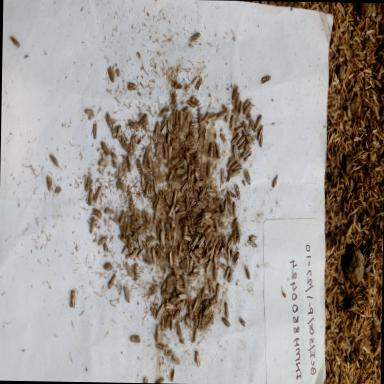pbw: (228, 83, 238, 106), (106, 64, 118, 83), (140, 207, 152, 226), (155, 300, 167, 318), (170, 350, 182, 368), (189, 29, 201, 46), (124, 261, 136, 278), (254, 113, 264, 133), (122, 285, 132, 305), (148, 282, 159, 300), (159, 310, 168, 332), (195, 234, 206, 252), (238, 147, 252, 161), (194, 214, 206, 230), (136, 112, 148, 128), (149, 193, 159, 212), (230, 132, 243, 146), (125, 78, 138, 92), (194, 74, 204, 92), (189, 234, 199, 252), (135, 156, 144, 176), (104, 112, 114, 130), (107, 272, 117, 290), (98, 154, 110, 169), (220, 244, 230, 262), (125, 153, 134, 173), (118, 161, 127, 181), (118, 133, 128, 151), (10, 34, 21, 50), (255, 124, 266, 140), (132, 260, 140, 282), (176, 320, 184, 342), (110, 124, 121, 140), (143, 176, 151, 198), (150, 306, 160, 323), (130, 332, 142, 346), (127, 119, 139, 133), (96, 234, 108, 248), (92, 207, 104, 221), (128, 134, 136, 155), (216, 107, 230, 119), (49, 153, 60, 168), (144, 170, 153, 188), (84, 174, 93, 192), (142, 238, 151, 256), (231, 225, 238, 248), (186, 172, 194, 192), (198, 284, 206, 304), (154, 322, 162, 342), (243, 100, 253, 116), (226, 164, 234, 184), (224, 156, 234, 172), (46, 174, 54, 194), (150, 210, 160, 226), (244, 166, 252, 186), (205, 256, 213, 276), (164, 310, 172, 330), (150, 244, 158, 264), (170, 186, 178, 206), (178, 238, 186, 258), (220, 315, 232, 328), (194, 148, 201, 170), (174, 276, 185, 290), (130, 212, 138, 231), (206, 237, 214, 256), (160, 115, 168, 134), (100, 140, 110, 155), (229, 112, 237, 130), (129, 244, 138, 260), (172, 80, 184, 92), (202, 302, 210, 320), (88, 217, 96, 235), (84, 106, 96, 118), (166, 236, 178, 248), (190, 307, 198, 325), (242, 118, 251, 134), (214, 240, 222, 258), (102, 261, 114, 273), (258, 132, 266, 150), (207, 278, 216, 294), (184, 186, 192, 204), (94, 184, 102, 202), (186, 143, 198, 155), (194, 350, 202, 368), (142, 146, 150, 164), (188, 220, 196, 238), (260, 74, 272, 86), (230, 216, 238, 234), (169, 153, 180, 166), (165, 220, 172, 240), (186, 97, 196, 111), (215, 282, 222, 302), (182, 270, 189, 290), (180, 180, 190, 194), (192, 324, 199, 344), (216, 216, 226, 230), (191, 179, 201, 193), (166, 272, 176, 286), (244, 264, 252, 281), (168, 202, 176, 219), (234, 182, 242, 199), (125, 238, 133, 255), (202, 109, 210, 126), (160, 275, 168, 292), (192, 295, 200, 312), (242, 94, 251, 109), (154, 141, 161, 160), (135, 209, 142, 228), (224, 300, 231, 319), (154, 118, 160, 140), (160, 228, 166, 250), (226, 187, 237, 199), (208, 294, 219, 306), (238, 138, 249, 150), (176, 284, 187, 296), (121, 218, 127, 240), (226, 244, 232, 266), (177, 290, 188, 302), (244, 152, 254, 165), (102, 206, 115, 216), (165, 175, 175, 188), (224, 192, 234, 205), (190, 203, 203, 213), (136, 224, 146, 237), (187, 270, 200, 280), (172, 225, 180, 241), (203, 232, 211, 248), (226, 201, 234, 217), (212, 266, 220, 282), (168, 164, 176, 180), (172, 262, 179, 280), (246, 132, 255, 146), (161, 218, 168, 236), (114, 205, 120, 226), (186, 108, 193, 126), (119, 208, 126, 226), (212, 196, 223, 207), (160, 104, 171, 115), (172, 206, 178, 226), (184, 254, 190, 274), (218, 260, 228, 272), (88, 185, 94, 205), (270, 173, 278, 188), (232, 168, 242, 180), (92, 122, 98, 142), (156, 226, 162, 246), (190, 258, 200, 270), (192, 244, 204, 254), (234, 90, 240, 110), (203, 207, 213, 219), (166, 298, 176, 310), (226, 236, 234, 251), (174, 298, 186, 308), (215, 140, 221, 160), (175, 156, 185, 168), (200, 296, 210, 308), (146, 232, 156, 244), (196, 308, 202, 328), (195, 222, 205, 234), (234, 249, 240, 269), (248, 230, 258, 242), (156, 342, 168, 352), (130, 229, 140, 241), (156, 198, 162, 218), (147, 153, 154, 170), (228, 265, 235, 282), (224, 264, 231, 281), (184, 313, 191, 330), (207, 113, 220, 122), (128, 194, 134, 213), (208, 140, 214, 159), (153, 177, 159, 196), (213, 218, 220, 234), (248, 116, 256, 130), (198, 186, 206, 200), (236, 221, 243, 237), (144, 139, 152, 153), (182, 104, 190, 118), (173, 308, 181, 322), (220, 130, 228, 144), (166, 132, 173, 148), (201, 254, 212, 264), (204, 216, 215, 226), (248, 238, 258, 249), (168, 248, 173, 270), (230, 159, 240, 170), (160, 289, 170, 300), (190, 120, 201, 130), (176, 198, 187, 208), (163, 347, 173, 358), (220, 168, 226, 186), (189, 250, 198, 262), (204, 225, 216, 234), (187, 300, 193, 318), (191, 96, 200, 108), (128, 230, 134, 248), (201, 168, 210, 180), (186, 208, 192, 226), (168, 143, 174, 161), (198, 108, 204, 126), (172, 106, 177, 127), (182, 170, 190, 183), (174, 168, 187, 176), (186, 149, 192, 166), (238, 100, 244, 117), (220, 232, 226, 249), (170, 365, 176, 382), (140, 173, 146, 190), (173, 268, 183, 278), (172, 250, 177, 270), (125, 217, 130, 237), (194, 178, 204, 188), (169, 312, 174, 332), (216, 209, 226, 219), (171, 286, 180, 297), (176, 194, 187, 203), (210, 244, 216, 260), (174, 107, 180, 123), (216, 248, 224, 260), (180, 256, 188, 268), (138, 247, 146, 259), (116, 123, 122, 139), (238, 315, 246, 327), (245, 137, 253, 149), (207, 161, 212, 180), (232, 108, 241, 118), (154, 374, 164, 383), (170, 220, 175, 238), (235, 124, 244, 134), (205, 185, 214, 195), (166, 117, 172, 132), (180, 218, 191, 226), (207, 192, 218, 200), (236, 224, 240, 246), (179, 109, 184, 126), (226, 106, 231, 123), (212, 210, 219, 222), (166, 206, 172, 220), (112, 157, 118, 171), (195, 168, 201, 182), (190, 197, 196, 211), (184, 232, 192, 242), (188, 165, 193, 181), (196, 200, 206, 208), (228, 152, 236, 162), (236, 161, 244, 171), (122, 242, 128, 255), (137, 236, 143, 249), (224, 200, 228, 219), (232, 200, 237, 215), (183, 221, 188, 236), (164, 141, 168, 159), (212, 140, 216, 158), (233, 144, 238, 158), (142, 257, 152, 264), (178, 208, 186, 216), (118, 235, 126, 243), (192, 266, 200, 274), (214, 254, 218, 269), (194, 184, 200, 194), (203, 125, 207, 139)
